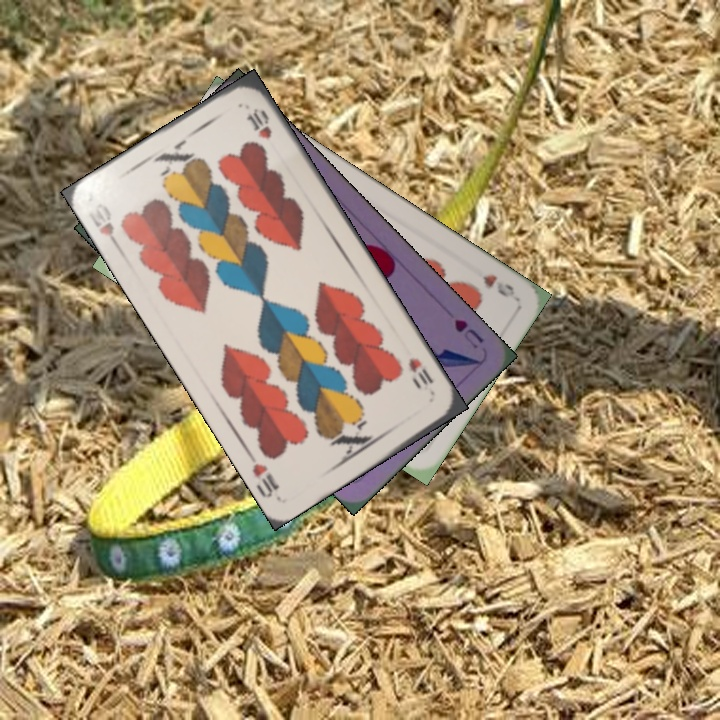H10: (84, 199, 125, 254), (404, 353, 436, 387)
H9: (478, 270, 518, 300)
HU: (450, 315, 487, 352)
